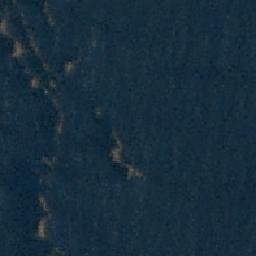debris: (38, 195, 48, 237), (123, 164, 145, 180), (9, 38, 26, 57), (110, 145, 123, 166), (30, 38, 42, 57), (61, 62, 77, 75), (27, 78, 45, 89), (1, 14, 9, 36), (58, 110, 65, 132), (43, 61, 54, 73), (113, 130, 120, 145), (48, 77, 57, 88), (51, 97, 59, 107)
